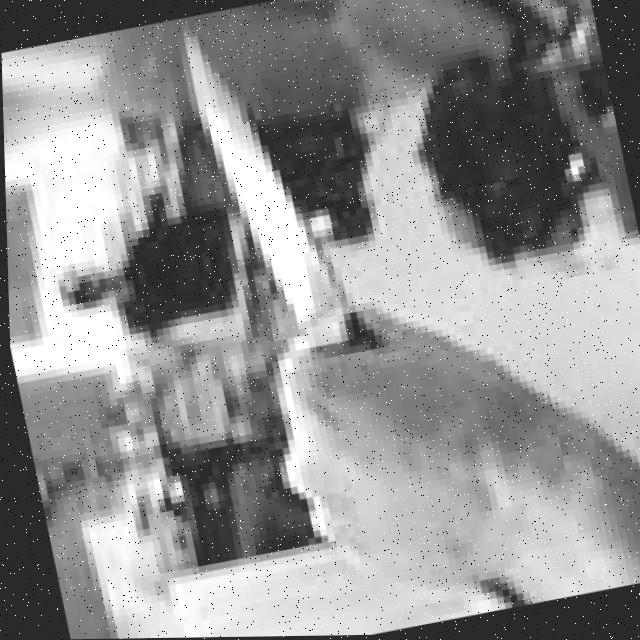knife: (149, 0, 378, 377)
